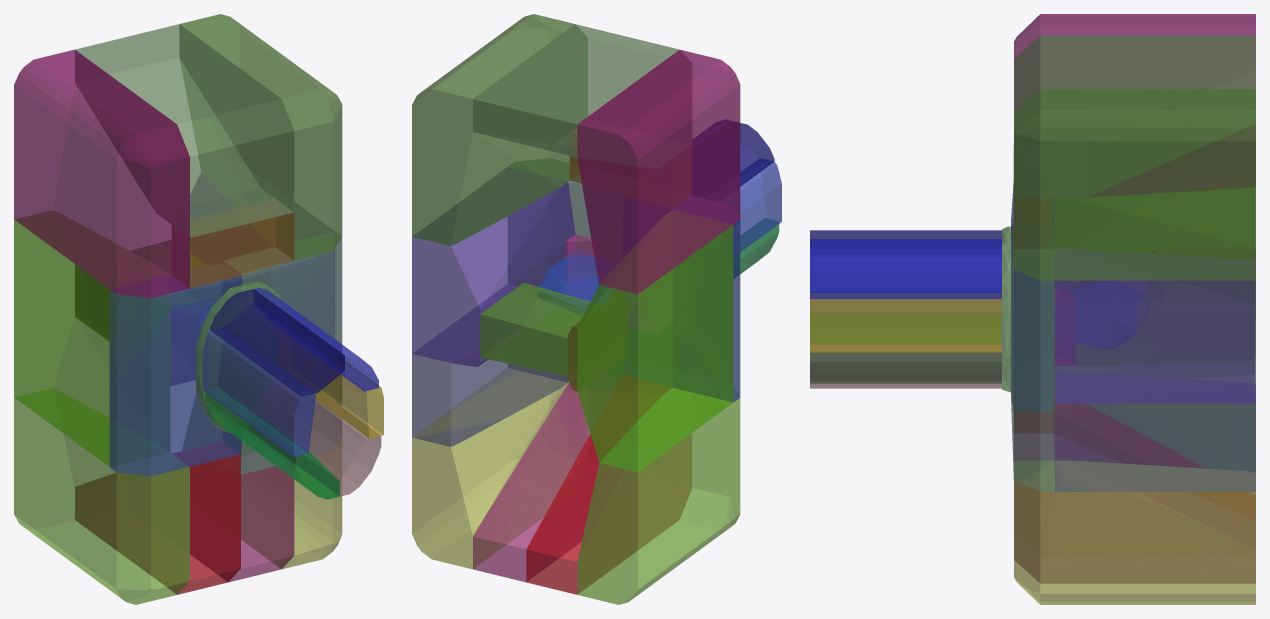
Rendered from Tool_holder_pizza.obj.
The picture shows the model from 3 angles, left to right: view 1: azimuth 30°, elevation 25°; view 2: azimuth 150°, elevation 25°; view 3: azimuth 270°, elevation 25°; orthographic projection. The views are drawn at different scales.
Parts seen in each view (by area): view 1: Shape_IndexedFaceSet.003_Shape_IndexedFaceSet.215, Shape_IndexedFaceSet.016_Shape_IndexedFaceSet.228, Shape_IndexedFaceSet.021_Shape_IndexedFaceSet.233, Shape_IndexedFaceSet.018_Shape_IndexedFaceSet.230, Shape_IndexedFaceSet.012_Shape_IndexedFaceSet.224, Shape_IndexedFaceSet.014_Shape_IndexedFaceSet.226, Shape_IndexedFaceSet.013_Shape_IndexedFaceSet.225, Shape_IndexedFaceSet.017_Shape_IndexedFaceSet.229, Shape_IndexedFaceSet.005_Shape_IndexedFaceSet.217, Shape_IndexedFaceSet.004_Shape_IndexedFaceSet.216, Shape_IndexedFaceSet.006_Shape_IndexedFaceSet.218, Shape_IndexedFaceSet.002_Shape_IndexedFaceSet.214 (+10 smaller); view 2: Shape_IndexedFaceSet.021_Shape_IndexedFaceSet.233, Shape_IndexedFaceSet.003_Shape_IndexedFaceSet.215, Shape_IndexedFaceSet.018_Shape_IndexedFaceSet.230, Shape_IndexedFaceSet.005_Shape_IndexedFaceSet.217, Shape_IndexedFaceSet.012_Shape_IndexedFaceSet.224, Shape_IndexedFaceSet.019_Shape_IndexedFaceSet.231, Shape_IndexedFaceSet.016_Shape_IndexedFaceSet.228, Shape_IndexedFaceSet.013_Shape_IndexedFaceSet.225, Shape_IndexedFaceSet.014_Shape_IndexedFaceSet.226, Shape_IndexedFaceSet.022_Shape_IndexedFaceSet.234, Shape_IndexedFaceSet.004_Shape_IndexedFaceSet.216, Shape_IndexedFaceSet.017_Shape_IndexedFaceSet.229 (+9 smaller); view 3: Shape_IndexedFaceSet.018_Shape_IndexedFaceSet.230, Shape_IndexedFaceSet.005_Shape_IndexedFaceSet.217, Shape_IndexedFaceSet.016_Shape_IndexedFaceSet.228, Shape_IndexedFaceSet.019_Shape_IndexedFaceSet.231, Shape_IndexedFaceSet.003_Shape_IndexedFaceSet.215, Shape_IndexedFaceSet.022_Shape_IndexedFaceSet.234, Shape_IndexedFaceSet.021_Shape_IndexedFaceSet.233, Shape_IndexedFaceSet.009_Shape_IndexedFaceSet.221, Shape_IndexedFaceSet.008_Shape_IndexedFaceSet.220, Shape_IndexedFaceSet.001_Shape_IndexedFaceSet.213, Shape_IndexedFaceSet.004_Shape_IndexedFaceSet.216, Shape_IndexedFaceSet.017_Shape_IndexedFaceSet.229 (+12 smaller).
Boxes of the visible parts, box(x1,y1,x2,y2) form: Shape_IndexedFaceSet.003_Shape_IndexedFaceSet.215: box(14, 49, 189, 298); Shape_IndexedFaceSet.016_Shape_IndexedFaceSet.228: box(75, 24, 294, 237); Shape_IndexedFaceSet.021_Shape_IndexedFaceSet.233: box(14, 210, 169, 466); Shape_IndexedFaceSet.018_Shape_IndexedFaceSet.230: box(179, 14, 342, 260); Shape_IndexedFaceSet.012_Shape_IndexedFaceSet.224: box(14, 388, 189, 604); Shape_IndexedFaceSet.014_Shape_IndexedFaceSet.226: box(109, 264, 242, 476); Shape_IndexedFaceSet.013_Shape_IndexedFaceSet.225: box(75, 442, 240, 594); Shape_IndexedFaceSet.017_Shape_IndexedFaceSet.229: box(222, 232, 342, 474); Shape_IndexedFaceSet.005_Shape_IndexedFaceSet.217: box(182, 393, 342, 569); Shape_IndexedFaceSet.004_Shape_IndexedFaceSet.216: box(190, 461, 294, 582); Shape_IndexedFaceSet.006_Shape_IndexedFaceSet.218: box(202, 327, 315, 456); Shape_IndexedFaceSet.002_Shape_IndexedFaceSet.214: box(249, 377, 381, 496); Shape_IndexedFaceSet.021_Shape_IndexedFaceSet.233: box(577, 210, 733, 472); Shape_IndexedFaceSet.003_Shape_IndexedFaceSet.215: box(577, 49, 740, 294); Shape_IndexedFaceSet.018_Shape_IndexedFaceSet.230: box(412, 14, 587, 245); Shape_IndexedFaceSet.005_Shape_IndexedFaceSet.217: box(412, 368, 587, 569); Shape_IndexedFaceSet.012_Shape_IndexedFaceSet.224: box(577, 388, 740, 604); Shape_IndexedFaceSet.019_Shape_IndexedFaceSet.231: box(412, 167, 575, 366); Shape_IndexedFaceSet.016_Shape_IndexedFaceSet.228: box(473, 24, 691, 168); Shape_IndexedFaceSet.013_Shape_IndexedFaceSet.225: box(526, 375, 691, 594); Shape_IndexedFaceSet.014_Shape_IndexedFaceSet.226: box(622, 196, 740, 402); Shape_IndexedFaceSet.022_Shape_IndexedFaceSet.234: box(412, 284, 568, 446); Shape_IndexedFaceSet.004_Shape_IndexedFaceSet.216: box(473, 383, 611, 582); Shape_IndexedFaceSet.017_Shape_IndexedFaceSet.229: box(508, 158, 622, 389); Shape_IndexedFaceSet.018_Shape_IndexedFaceSet.230: box(1014, 89, 1255, 280); Shape_IndexedFaceSet.005_Shape_IndexedFaceSet.217: box(1014, 461, 1255, 604); Shape_IndexedFaceSet.016_Shape_IndexedFaceSet.228: box(1014, 35, 1255, 198); Shape_IndexedFaceSet.019_Shape_IndexedFaceSet.231: box(1055, 250, 1255, 403); Shape_IndexedFaceSet.003_Shape_IndexedFaceSet.215: box(1014, 14, 1255, 196); Shape_IndexedFaceSet.022_Shape_IndexedFaceSet.234: box(1055, 372, 1255, 491); Shape_IndexedFaceSet.021_Shape_IndexedFaceSet.233: box(1055, 188, 1254, 378); Shape_IndexedFaceSet.009_Shape_IndexedFaceSet.221: box(810, 239, 1001, 299); Shape_IndexedFaceSet.008_Shape_IndexedFaceSet.220: box(810, 293, 1001, 352); Shape_IndexedFaceSet.001_Shape_IndexedFaceSet.213: box(810, 314, 1001, 382); Shape_IndexedFaceSet.004_Shape_IndexedFaceSet.216: box(1014, 433, 1255, 583); Shape_IndexedFaceSet.017_Shape_IndexedFaceSet.229: box(1011, 222, 1054, 491).
Bounding box in the file's own units: 4.04 × 8.04 × 6.57.
